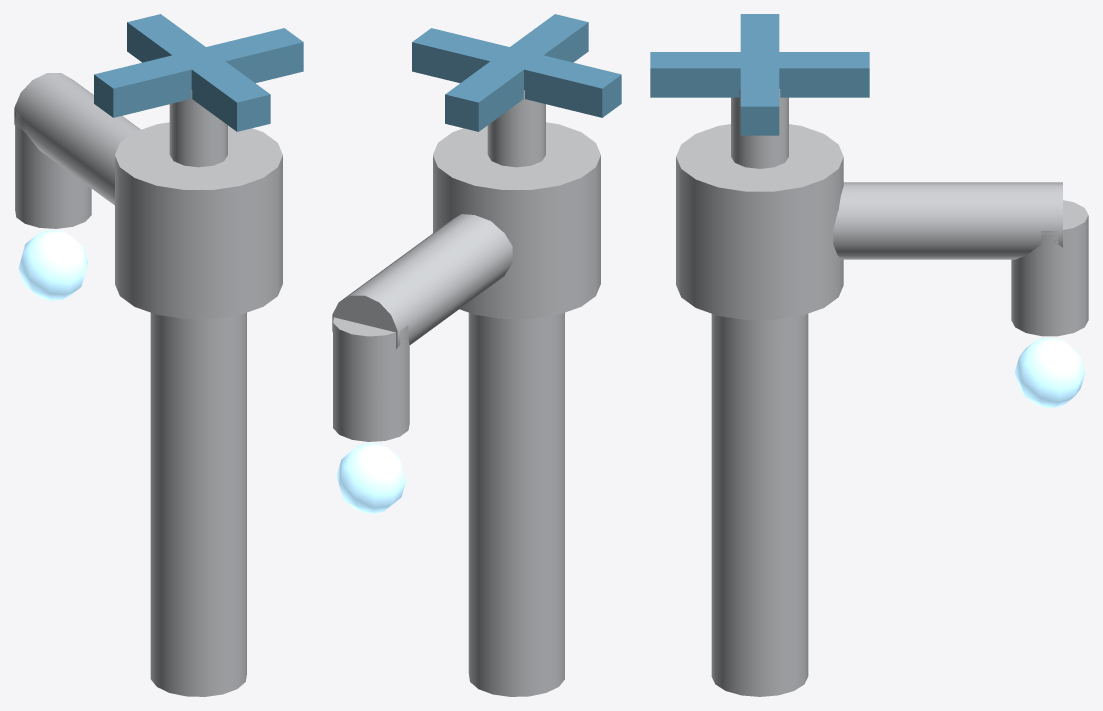
The model's file is prop-tap.glb.
3 renders of one model, left to right at view 1: azimuth 30°, elevation 25°; view 2: azimuth 150°, elevation 25°; view 3: azimuth 270°, elevation 25°, orthographic.
Parts seen in each view (by area): view 1: tap_pipe, tap_body, tap_spout, tap_handle, tap_handle.001, tap_mouth, tap_drop, tap_stem; view 2: tap_pipe, tap_body, tap_spout, tap_mouth, tap_handle, tap_handle.001, tap_drop, tap_stem; view 3: tap_pipe, tap_body, tap_spout, tap_handle.001, tap_mouth, tap_handle, tap_drop, tap_stem.
Part boxes in pixels (x1,y1,x2,y2): tap_pipe: (150,312,246,696); tap_body: (115,122,282,318); tap_spout: (14,73,140,205); tap_handle: (94,28,303,117); tap_handle.001: (127,14,270,131); tap_mouth: (15,104,91,228); tap_drop: (18,230,87,300); tap_stem: (169,90,227,167); tap_pipe: (468,312,564,696); tap_body: (433,122,600,318); tap_spout: (332,214,512,349); tap_mouth: (333,317,409,441); tap_handle: (412,28,621,117); tap_handle.001: (445,14,588,131); tap_drop: (336,443,405,513); tap_stem: (487,90,545,167); tap_pipe: (711,314,808,696); tap_body: (676,124,843,319); tap_spout: (833,182,1062,259); tap_handle.001: (650,52,869,97); tap_mouth: (1011,200,1088,336); tap_handle: (740,14,779,135); tap_drop: (1014,338,1085,407); tap_stem: (731,89,788,168).
Size of the model in its own units: 0.34 by 1.05 by 0.68.
